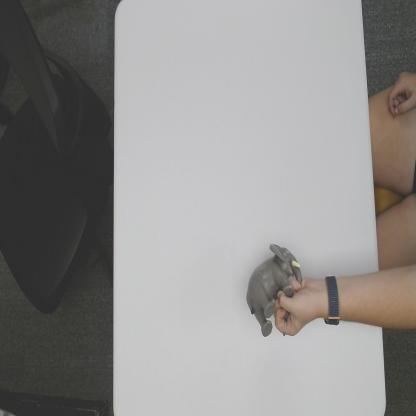Arm: (339, 273, 381, 326)
Elephant: (246, 243, 304, 336)
Hand: (272, 274, 320, 338)
